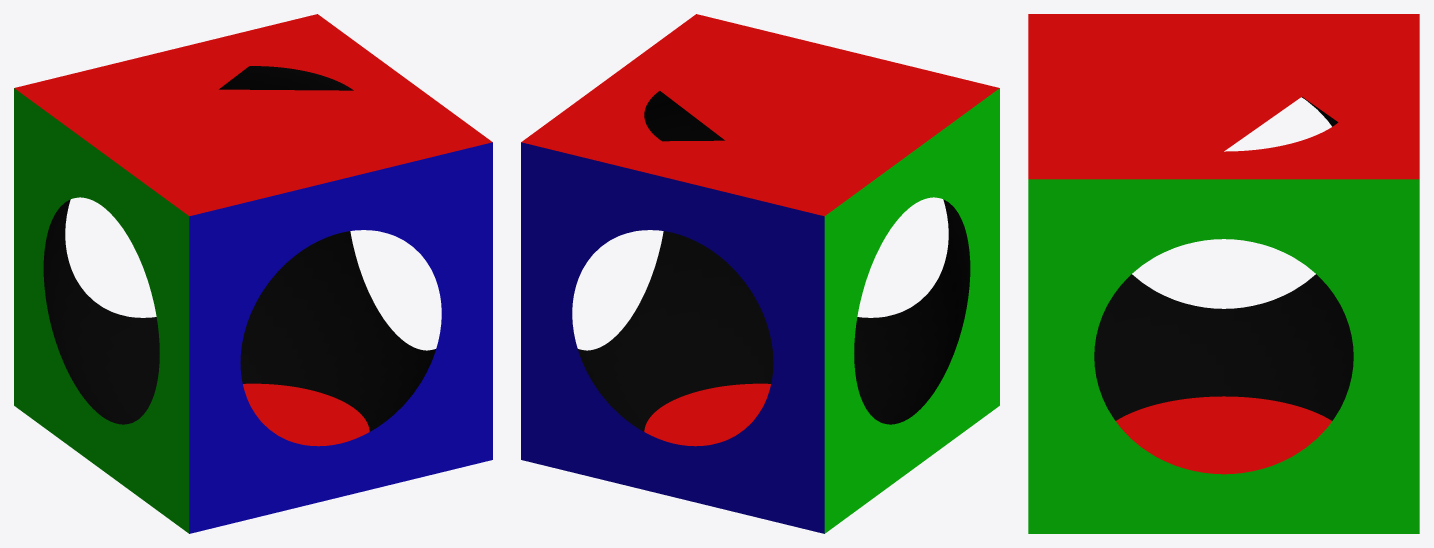
Rendered from CubeMinusSphere.fbx.
3 renders of one model, left to right at view 1: azimuth 30°, elevation 25°; view 2: azimuth 150°, elevation 25°; view 3: azimuth 270°, elevation 25°, orthographic. The views are drawn at different scales.
Visible parts, largest first — view 1: Cube; view 2: Cube; view 3: Cube.
Boxes of the visible parts, x1,y1,x2,y2 form: Cube: (14,14,492,533); Cube: (521,14,999,533); Cube: (1028,14,1419,533).
Size of the model in its own units: 200 by 200 by 200.
